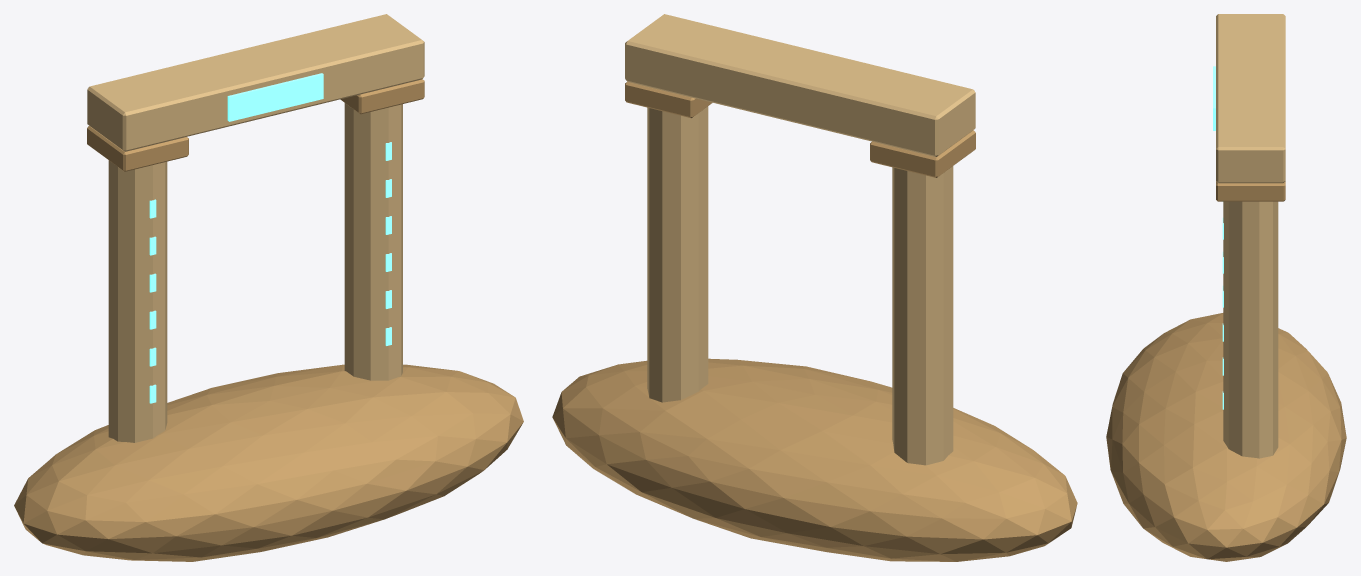
The model's file is map3_temple_gate_v01.glb.
The picture shows the model from 3 angles, left to right: view 1: azimuth 30°, elevation 25°; view 2: azimuth 150°, elevation 25°; view 3: azimuth 270°, elevation 25°; orthographic projection. The views are drawn at different scales.
Parts seen in each view (by area): view 1: temple_gate; view 2: temple_gate; view 3: temple_gate.
Boxes of the visible parts, x1,y1,x2,y2 form: temple_gate: (14,14,523,561); temple_gate: (552,14,1077,561); temple_gate: (1106,14,1346,561).
Size of the model in its own units: 10.39 by 9.17 by 4.81.
